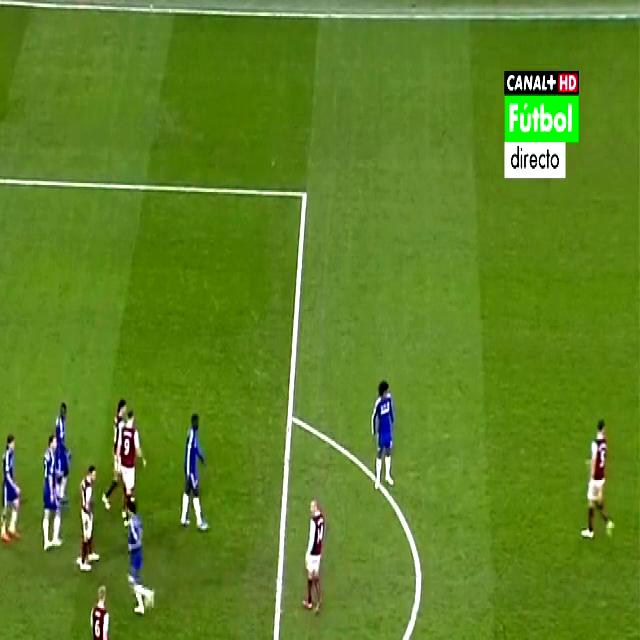soccer-player: (578, 403, 622, 544), (177, 404, 214, 539), (364, 365, 400, 501), (295, 491, 329, 622), (111, 394, 145, 520), (40, 422, 70, 557), (122, 501, 154, 618), (72, 458, 101, 578), (46, 391, 76, 504), (0, 423, 26, 549), (81, 586, 115, 640)
